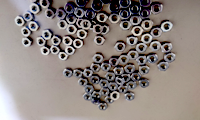nut: (139, 6, 152, 19), (151, 2, 163, 15), (161, 20, 173, 33), (141, 19, 154, 31), (119, 9, 132, 21), (129, 3, 141, 15), (132, 26, 144, 37), (115, 42, 127, 53), (93, 24, 105, 35), (55, 8, 66, 20), (28, 21, 40, 32), (21, 37, 33, 48), (150, 28, 163, 38), (119, 21, 132, 31), (94, 35, 105, 46), (162, 42, 173, 53), (81, 19, 92, 30), (136, 43, 147, 54), (30, 4, 41, 15), (45, 9, 56, 20), (58, 51, 69, 62), (125, 63, 136, 74), (110, 91, 121, 102), (141, 34, 153, 44), (130, 16, 142, 26), (109, 2, 121, 12), (164, 53, 176, 63), (74, 8, 86, 18), (76, 29, 88, 39), (73, 39, 85, 49), (65, 3, 75, 15), (22, 12, 34, 22), (14, 17, 26, 27), (20, 27, 32, 37), (93, 54, 105, 64), (39, 0, 52, 9), (127, 37, 138, 47), (97, 12, 108, 22), (92, 0, 103, 10), (150, 42, 161, 52), (42, 29, 52, 40), (65, 46, 76, 56), (158, 62, 169, 72), (140, 78, 150, 89), (128, 50, 139, 60), (109, 57, 120, 67), (91, 63, 102, 73), (90, 75, 101, 85), (105, 72, 116, 82), (126, 81, 137, 91), (62, 37, 74, 46), (136, 56, 148, 65), (118, 55, 130, 64), (110, 14, 120, 24), (58, 20, 68, 30), (51, 36, 61, 46), (67, 25, 77, 35), (149, 54, 159, 64), (132, 72, 142, 82), (63, 68, 73, 78), (73, 68, 83, 78), (86, 10, 97, 19), (36, 37, 47, 46), (139, 66, 150, 75), (97, 103, 108, 112), (120, 74, 131, 83), (139, 0, 152, 7), (99, 25, 109, 34), (88, 20, 98, 29), (76, 19, 86, 28), (79, 78, 89, 87), (100, 80, 110, 89), (108, 83, 118, 92), (101, 63, 111, 72), (106, 96, 115, 106), (121, 0, 132, 8), (84, 86, 95, 94), (125, 93, 136, 101), (76, 0, 88, 7), (40, 47, 49, 56), (92, 91, 101, 100), (114, 67, 123, 76), (83, 70, 93, 78), (83, 94, 92, 102), (102, 89, 110, 97), (50, 48, 59, 55), (68, 15, 75, 24), (119, 85, 126, 94), (116, 77, 123, 85), (101, 0, 112, 5), (27, 1, 39, 3)
